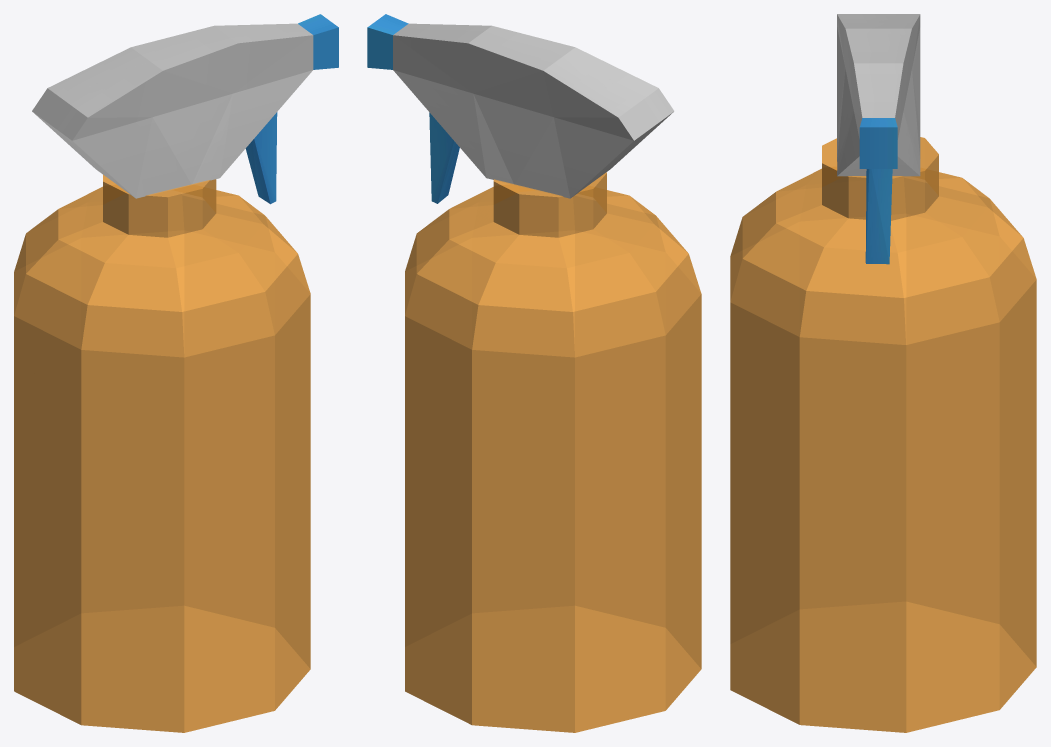
File: sprayer-milanesa0639_HDfEfa2kHZ.glb
3 views of the same model, side by side, from view 1: azimuth 30°, elevation 25°; view 2: azimuth 150°, elevation 25°; view 3: azimuth 270°, elevation 25° (orthographic). The views are drawn at different scales.
Parts seen in each view (by area): view 1: pulverizador_naranja, pulverizador_gris_claro, pulverizador_celeste; view 2: pulverizador_naranja, pulverizador_gris_claro, pulverizador_celeste; view 3: pulverizador_naranja, pulverizador_gris_claro, pulverizador_celeste.
Part boxes in pixels (left/top/right/bottom): pulverizador_naranja: left=14, top=174, right=310, bottom=732; pulverizador_gris_claro: left=32, top=23, right=313, bottom=198; pulverizador_celeste: left=245, top=14, right=338, bottom=204; pulverizador_naranja: left=405, top=172, right=701, bottom=732; pulverizador_gris_claro: left=393, top=23, right=674, bottom=198; pulverizador_celeste: left=367, top=14, right=459, bottom=203; pulverizador_naranja: left=730, top=137, right=1036, bottom=732; pulverizador_gris_claro: left=837, top=14, right=920, bottom=176; pulverizador_celeste: left=859, top=118, right=897, bottom=264.
Size of the model in its own units: 2.28 by 4.46 by 1.94.
3 materials, 3 textured.
